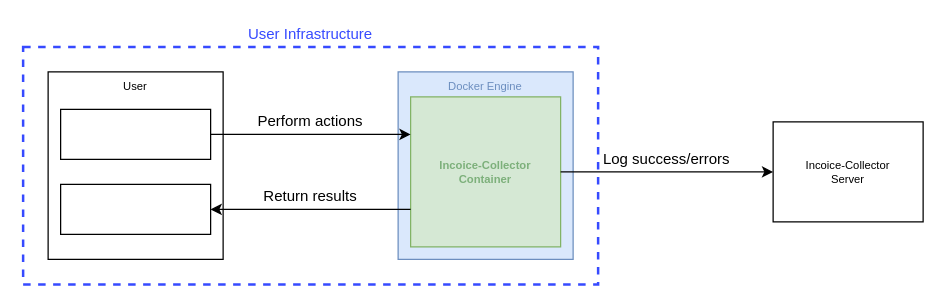
This 945x306 diagram has some shape labels left out. Here are the shapes that lost their labels. From the top down, the centre of each, then its label:
At (135,133): "Requestor".
At (135,208): "Handler".
